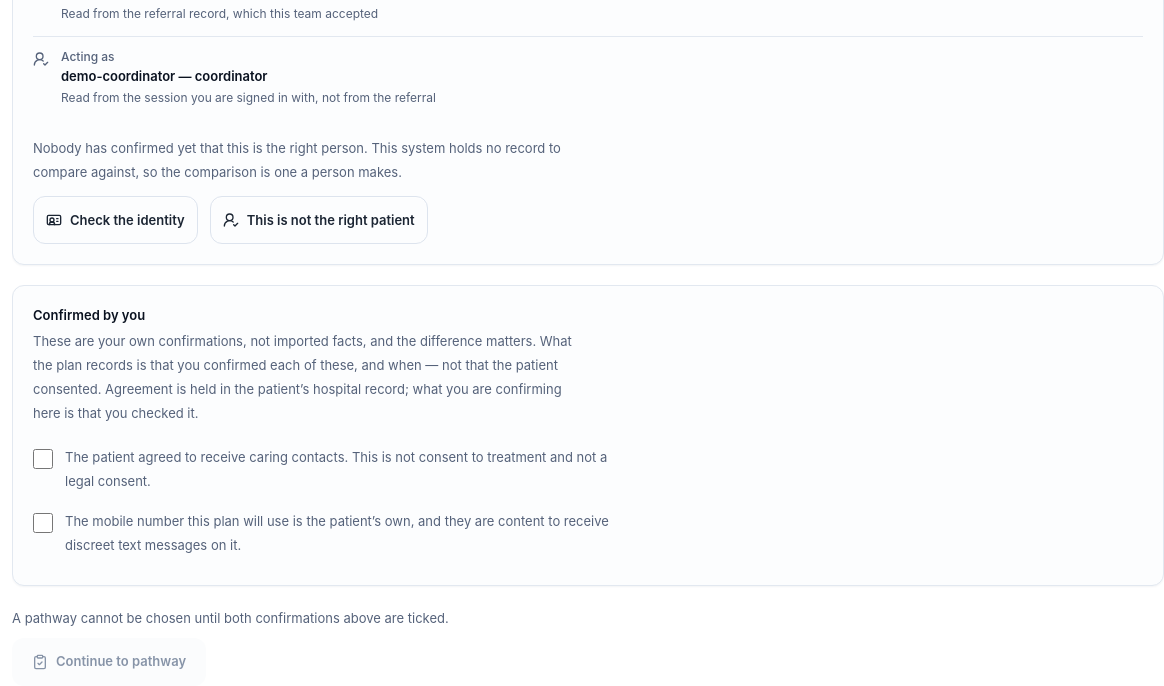
Test case: the caring-contacts plan wizard — stage 2, pathway (Ruling [113]) › states an empty chooser as a governance fact, not as a screen with nothing on it
(page scrolled)
Click the 1st checkbox: [43, 458] box x1=33 y1=448 x2=53 y2=468
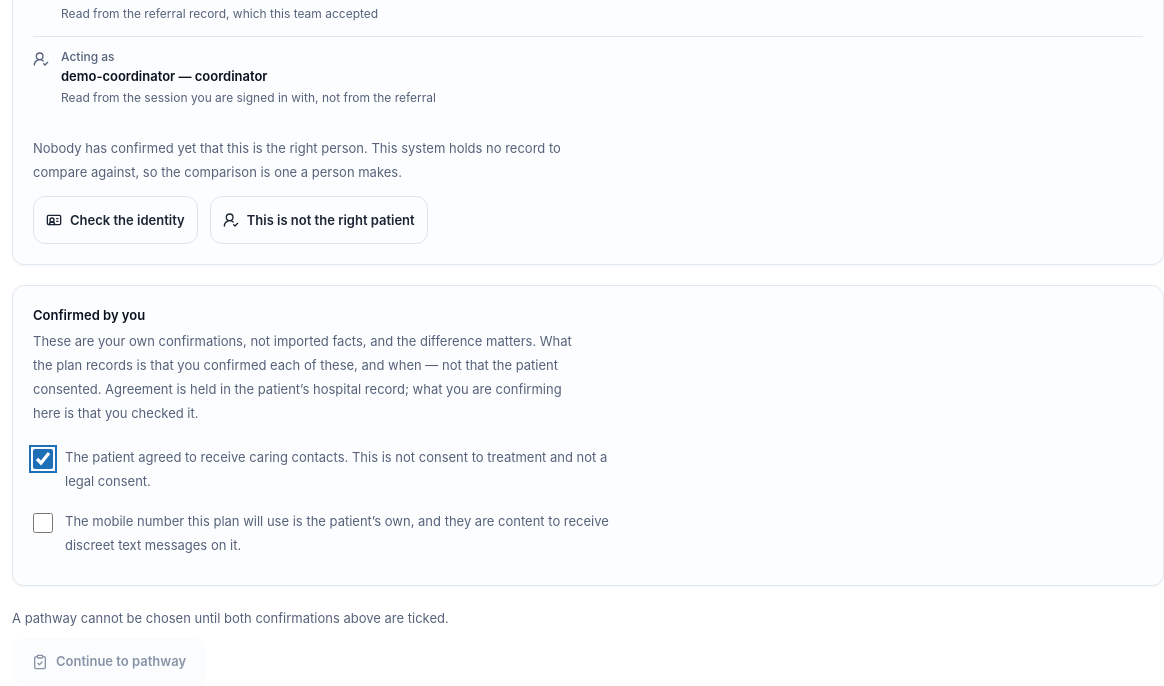
Click the 2nd checkbox: [43, 522] box x1=33 y1=512 x2=53 y2=532
(page scrolled)
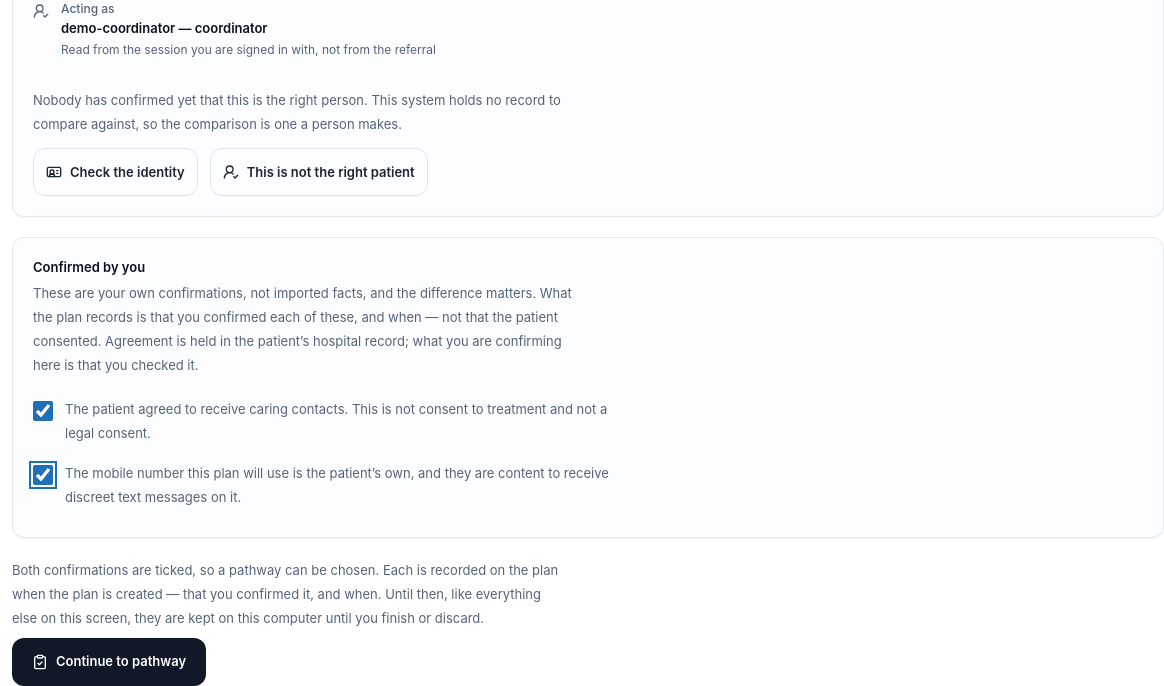
Click the button "Continue to pathway": [109, 662] box x1=12 y1=638 x2=206 y2=685
(page scrolled)
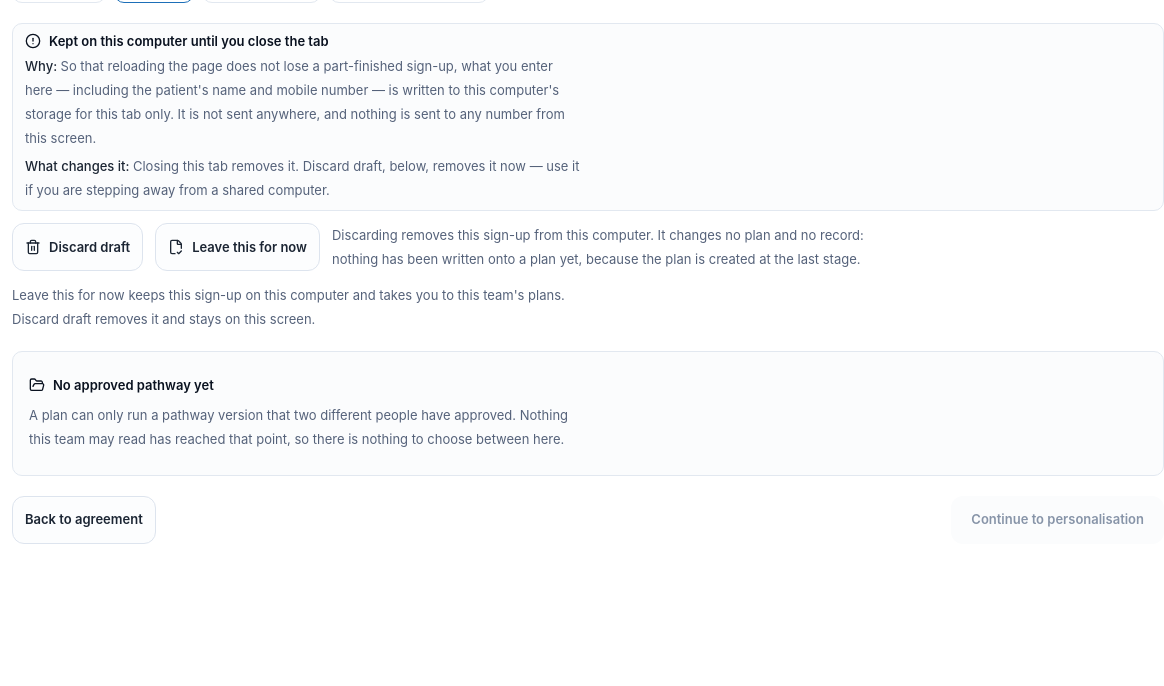
Now the element "No approved pathway yet" shows "two different people have approved", box x1=29 y1=407 x2=568 y2=447
